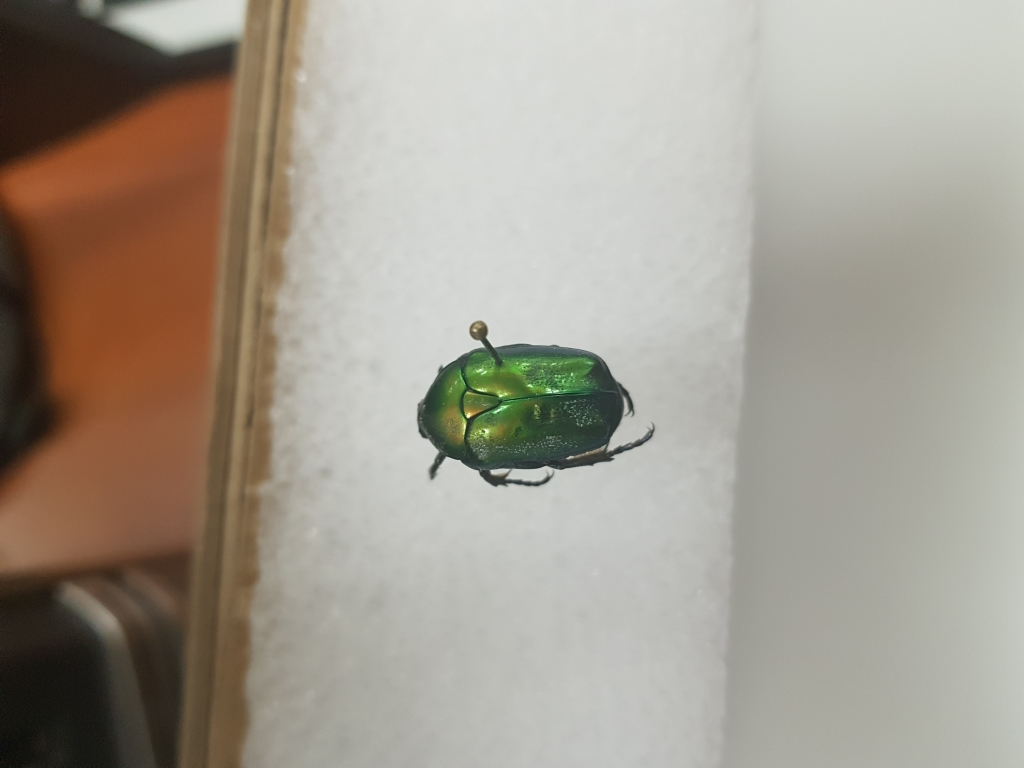Protaetia_cuprea_ignicollis: (407, 338, 658, 492)
